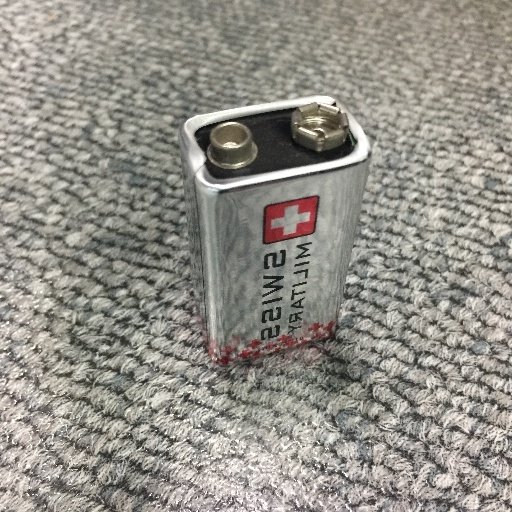Battery_3: (170, 78, 382, 386)
